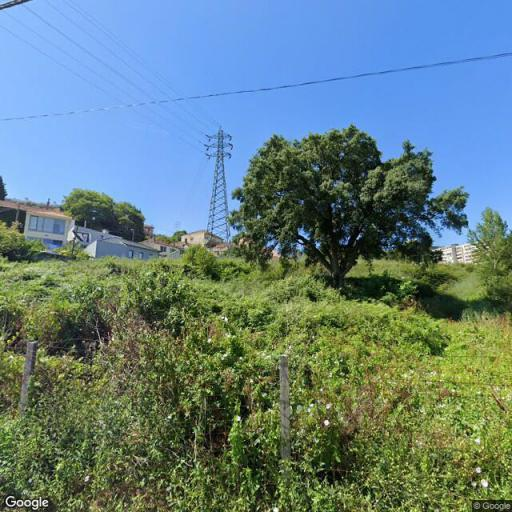ss_3: (202, 120, 237, 246)
